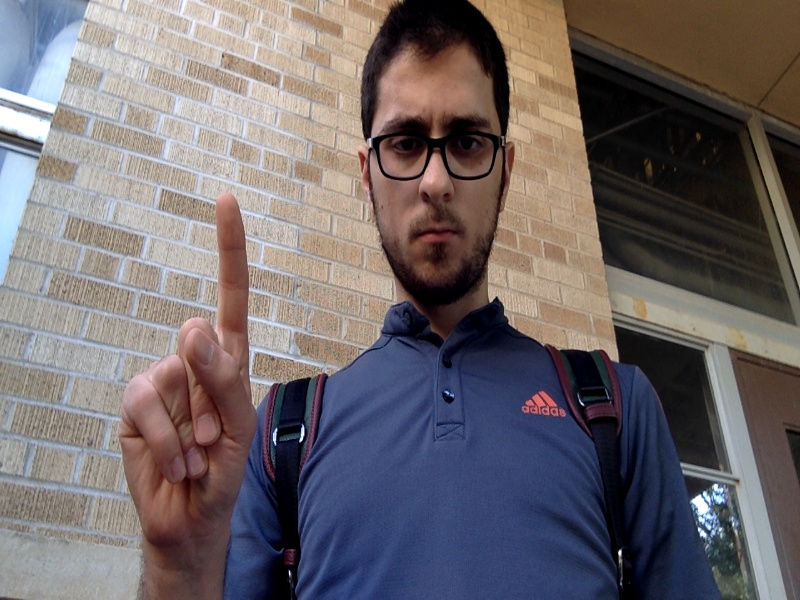1-hand: (125, 192, 253, 551)
